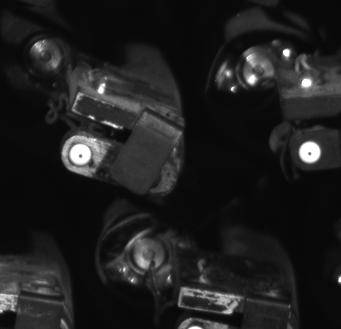fiber: (64, 141, 96, 171), (293, 140, 324, 168)
